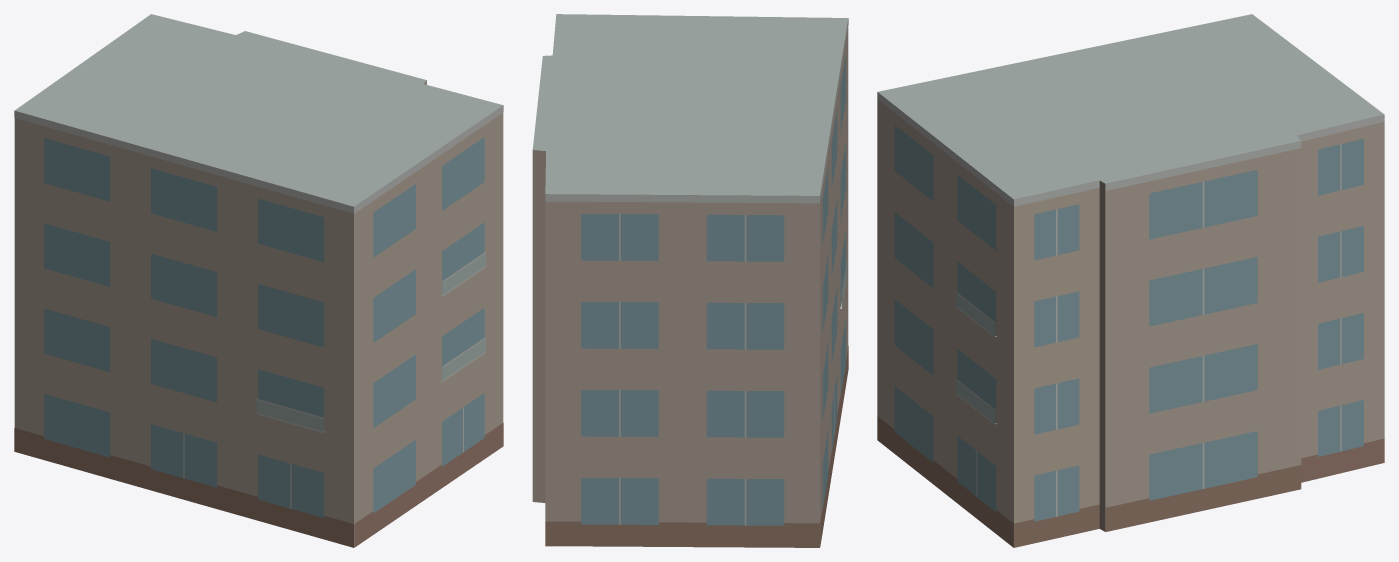
File: survey-upis-33036551.glb
The picture shows the model from 3 angles, left to right: view 1: azimuth 30°, elevation 25°; view 2: azimuth 150°, elevation 25°; view 3: azimuth 270°, elevation 25°; orthographic projection. The views are drawn at different scales.
Parts seen in each view (by area): view 1: survey-upis-33036551.tmp; view 2: survey-upis-33036551.tmp; view 3: survey-upis-33036551.tmp.
Boxes of the visible parts, x1,y1,x2,y2 form: survey-upis-33036551.tmp: [14, 14, 503, 547]; survey-upis-33036551.tmp: [532, 14, 848, 547]; survey-upis-33036551.tmp: [877, 14, 1384, 547].
Bounding box in the file's own units: 13.26 × 11.6 × 15.31.
